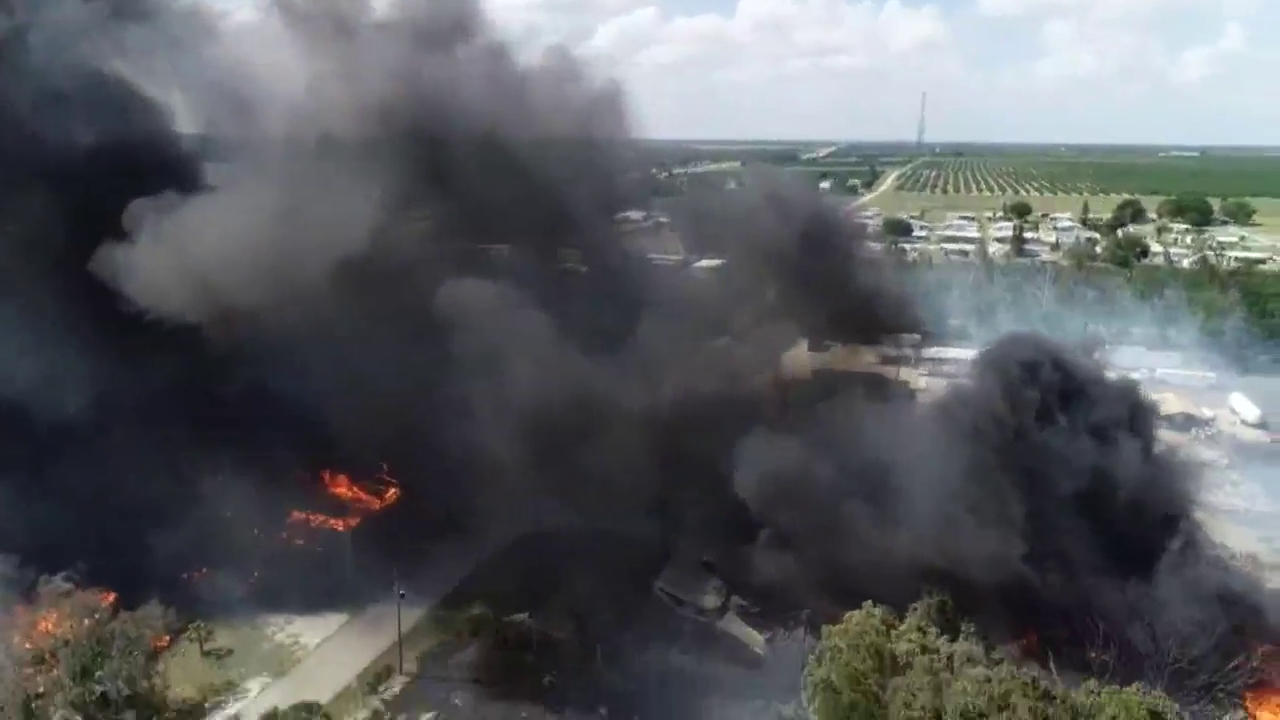forest_fire: (288, 465, 399, 531), (1242, 646, 1279, 718), (23, 609, 70, 648), (98, 592, 114, 606)
